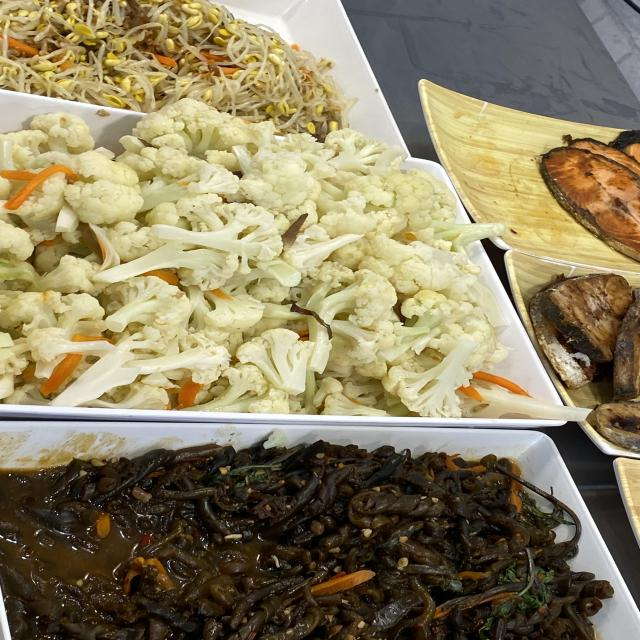cauliflower: (44, 164, 415, 398)
